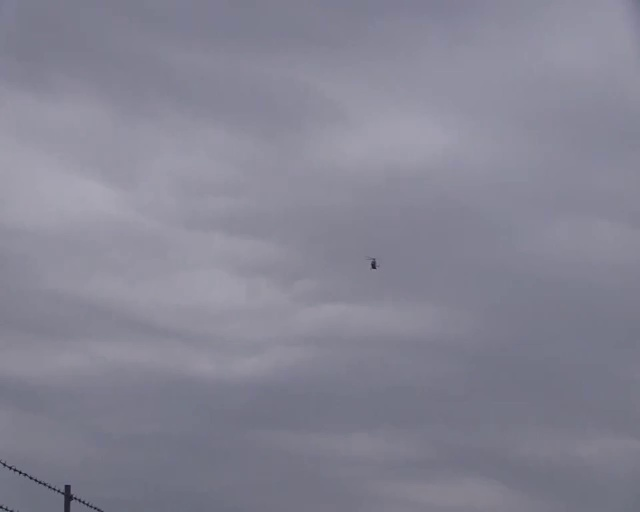HELICOPTER: (366, 257, 378, 269)
